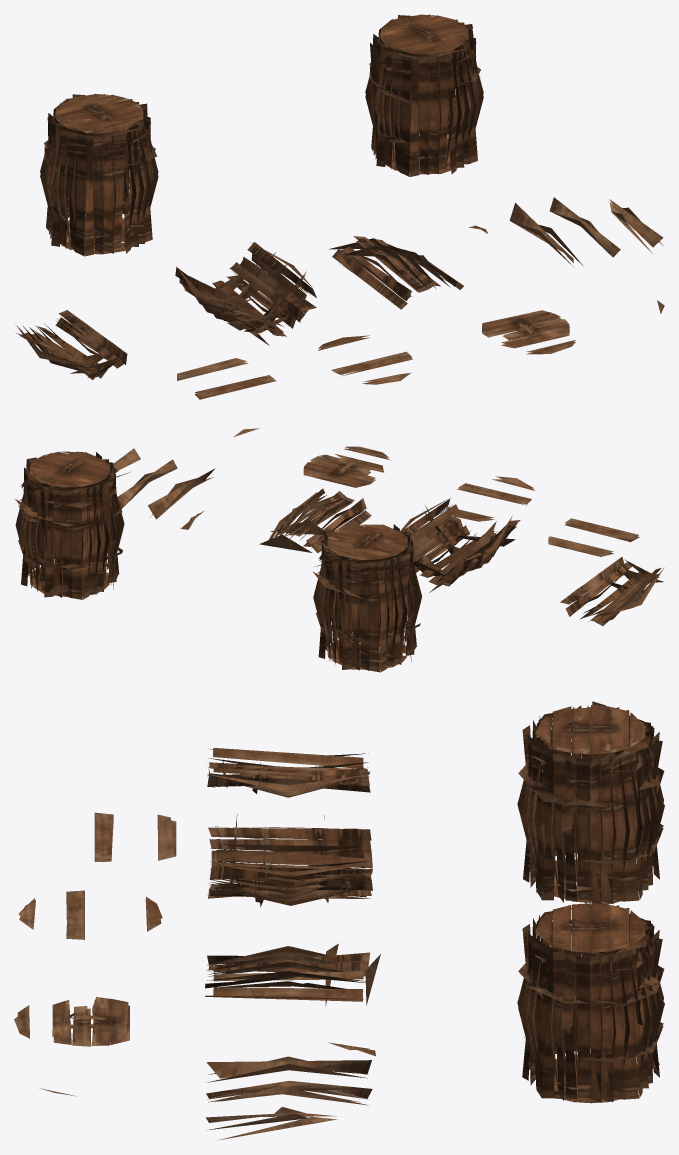
Rendered from barrels.glb.
3 views of the same model, one above another, from view 1: azimuth 30°, elevation 25°; view 2: azimuth 150°, elevation 25°; view 3: azimuth 270°, elevation 25° (orthographic). The views are drawn at different scales.
Visible parts, largest first — view 1: wooden_barrels_01_barrel01; view 2: wooden_barrels_01_barrel01; view 3: wooden_barrels_01_barrel01.
Part boxes in pixels (x1,y1,x2,y2): wooden_barrels_01_barrel01: [15, 14, 664, 399]; wooden_barrels_01_barrel01: [15, 428, 664, 672]; wooden_barrels_01_barrel01: [14, 701, 664, 1140].
Size of the model in its own units: 4.38 by 0.9768 by 3.36.
Materials: 3 (3 with a texture image).
